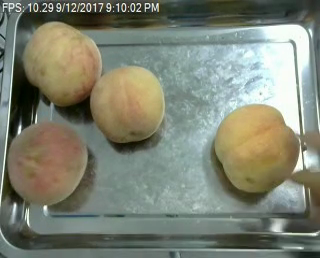Peach: (213, 102, 302, 195), (6, 120, 87, 206), (23, 21, 102, 106), (90, 65, 165, 143)
